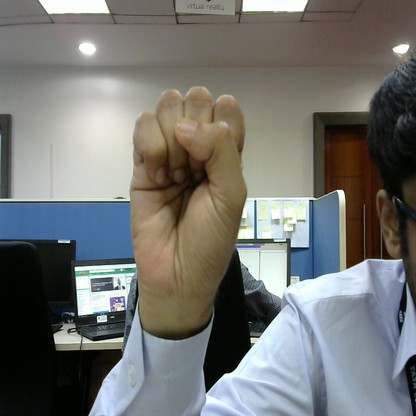s: (117, 76, 263, 303)
